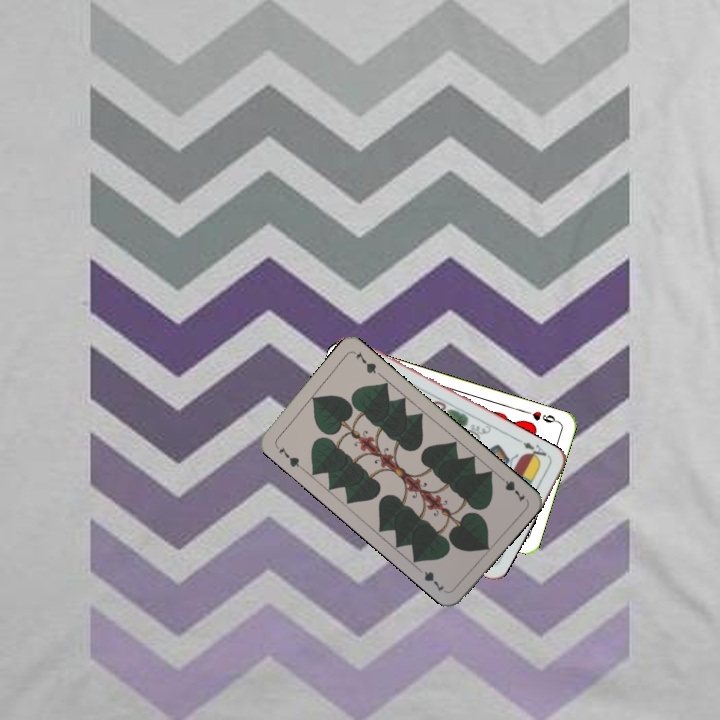EA: (514, 435, 552, 465)
G7: (494, 471, 528, 505), (275, 443, 305, 471)
H9: (522, 407, 561, 425)
